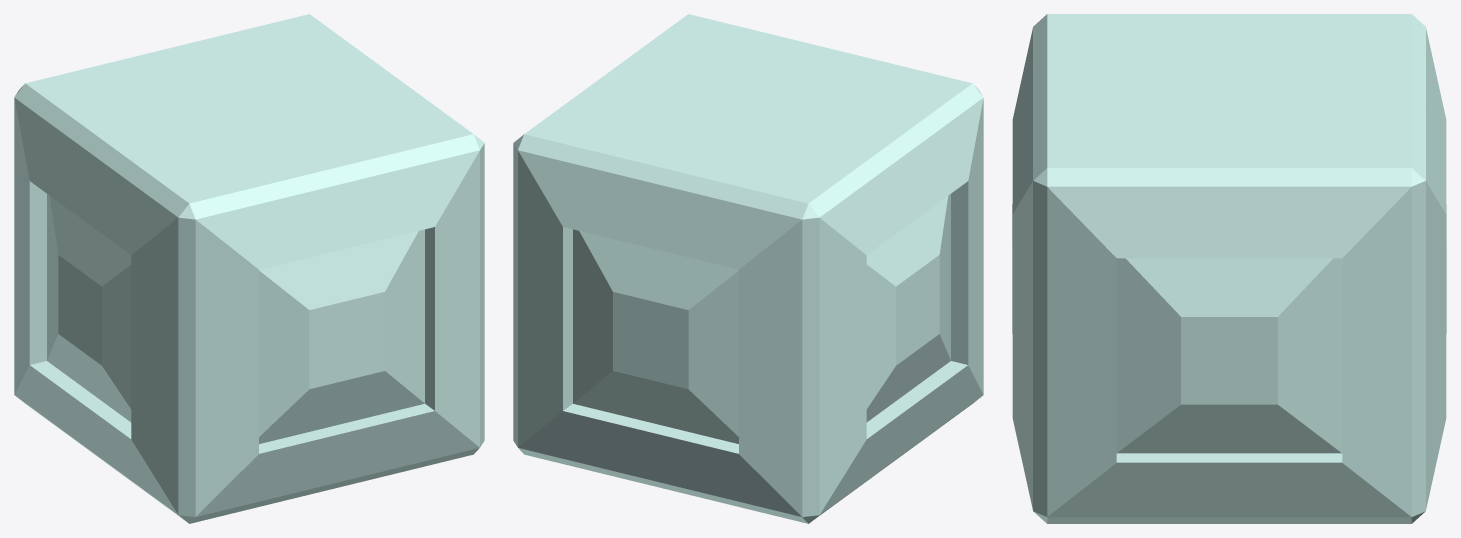
The model's file is diamante.gltf.
3 views of the same model, side by side, from view 1: azimuth 30°, elevation 25°; view 2: azimuth 150°, elevation 25°; view 3: azimuth 270°, elevation 25° (orthographic). The views are drawn at different scales.
Parts seen in each view (by area): view 1: Cube; view 2: Cube; view 3: Cube.
Boxes of the visible parts, x1,y1,x2,y2 form: Cube: (14,14,484,523); Cube: (513,14,983,523); Cube: (1012,14,1446,523).
Size of the model in its own units: 2.21 by 2 by 2.21.
